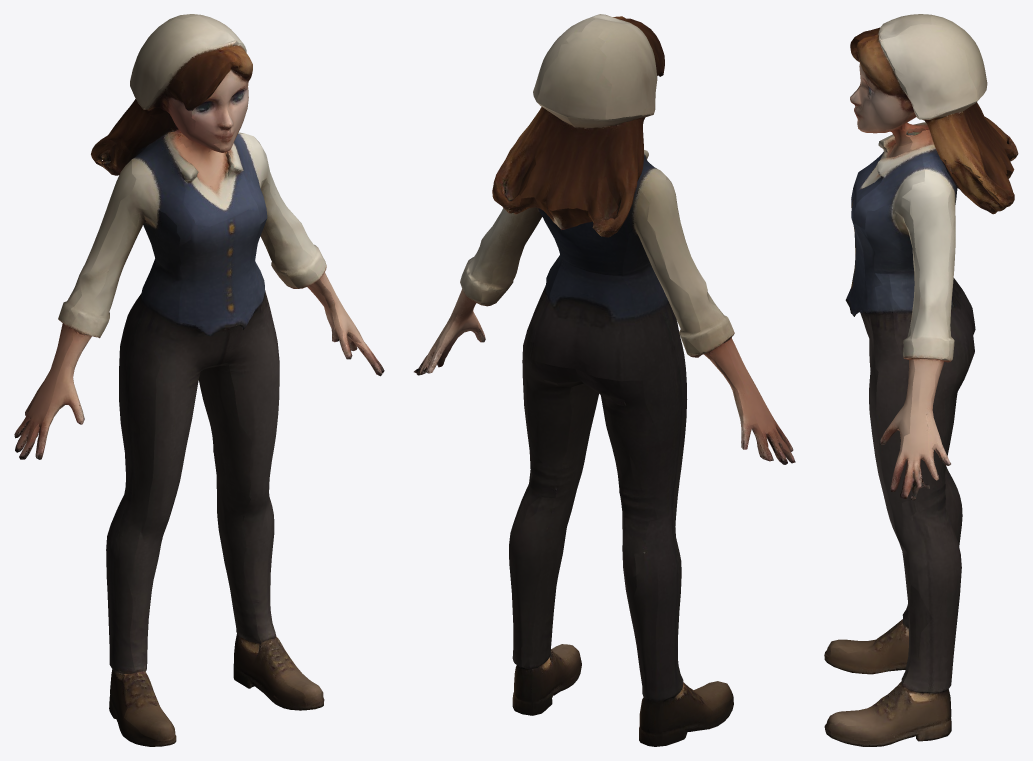
Rendered from citizen_female.glb.
3 renders of one model, left to right at view 1: azimuth 30°, elevation 25°; view 2: azimuth 150°, elevation 25°; view 3: azimuth 270°, elevation 25°, orthographic. The views are drawn at different scales.
Visible parts, largest first — view 1: citizenBody; view 2: citizenBody; view 3: citizenBody.
Part boxes in pixels (x1=…): citizenBody: x1=14, y1=14, x2=384, y2=746; citizenBody: x1=414, y1=14, x2=795, y2=746; citizenBody: x1=824, y1=14, x2=1018, y2=746.
Bounding box in the file's own units: 0.9299 × 1.65 × 0.4249.
1 material, 1 textured.
